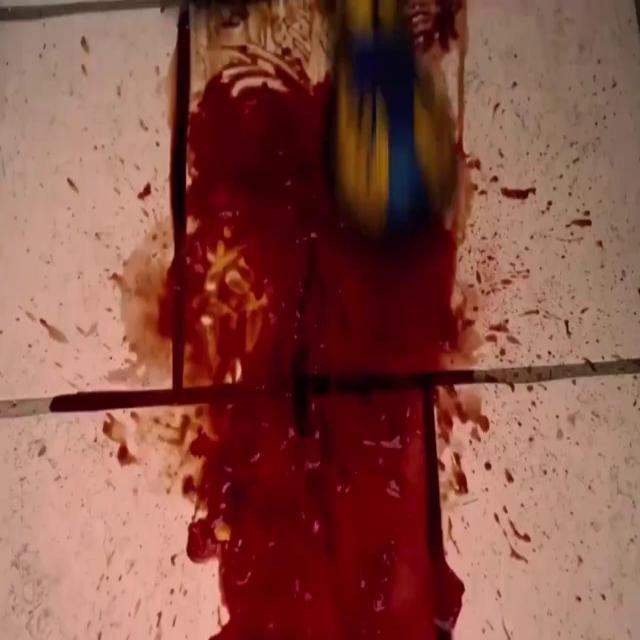flood: (264, 253, 445, 640), (190, 69, 328, 240)
